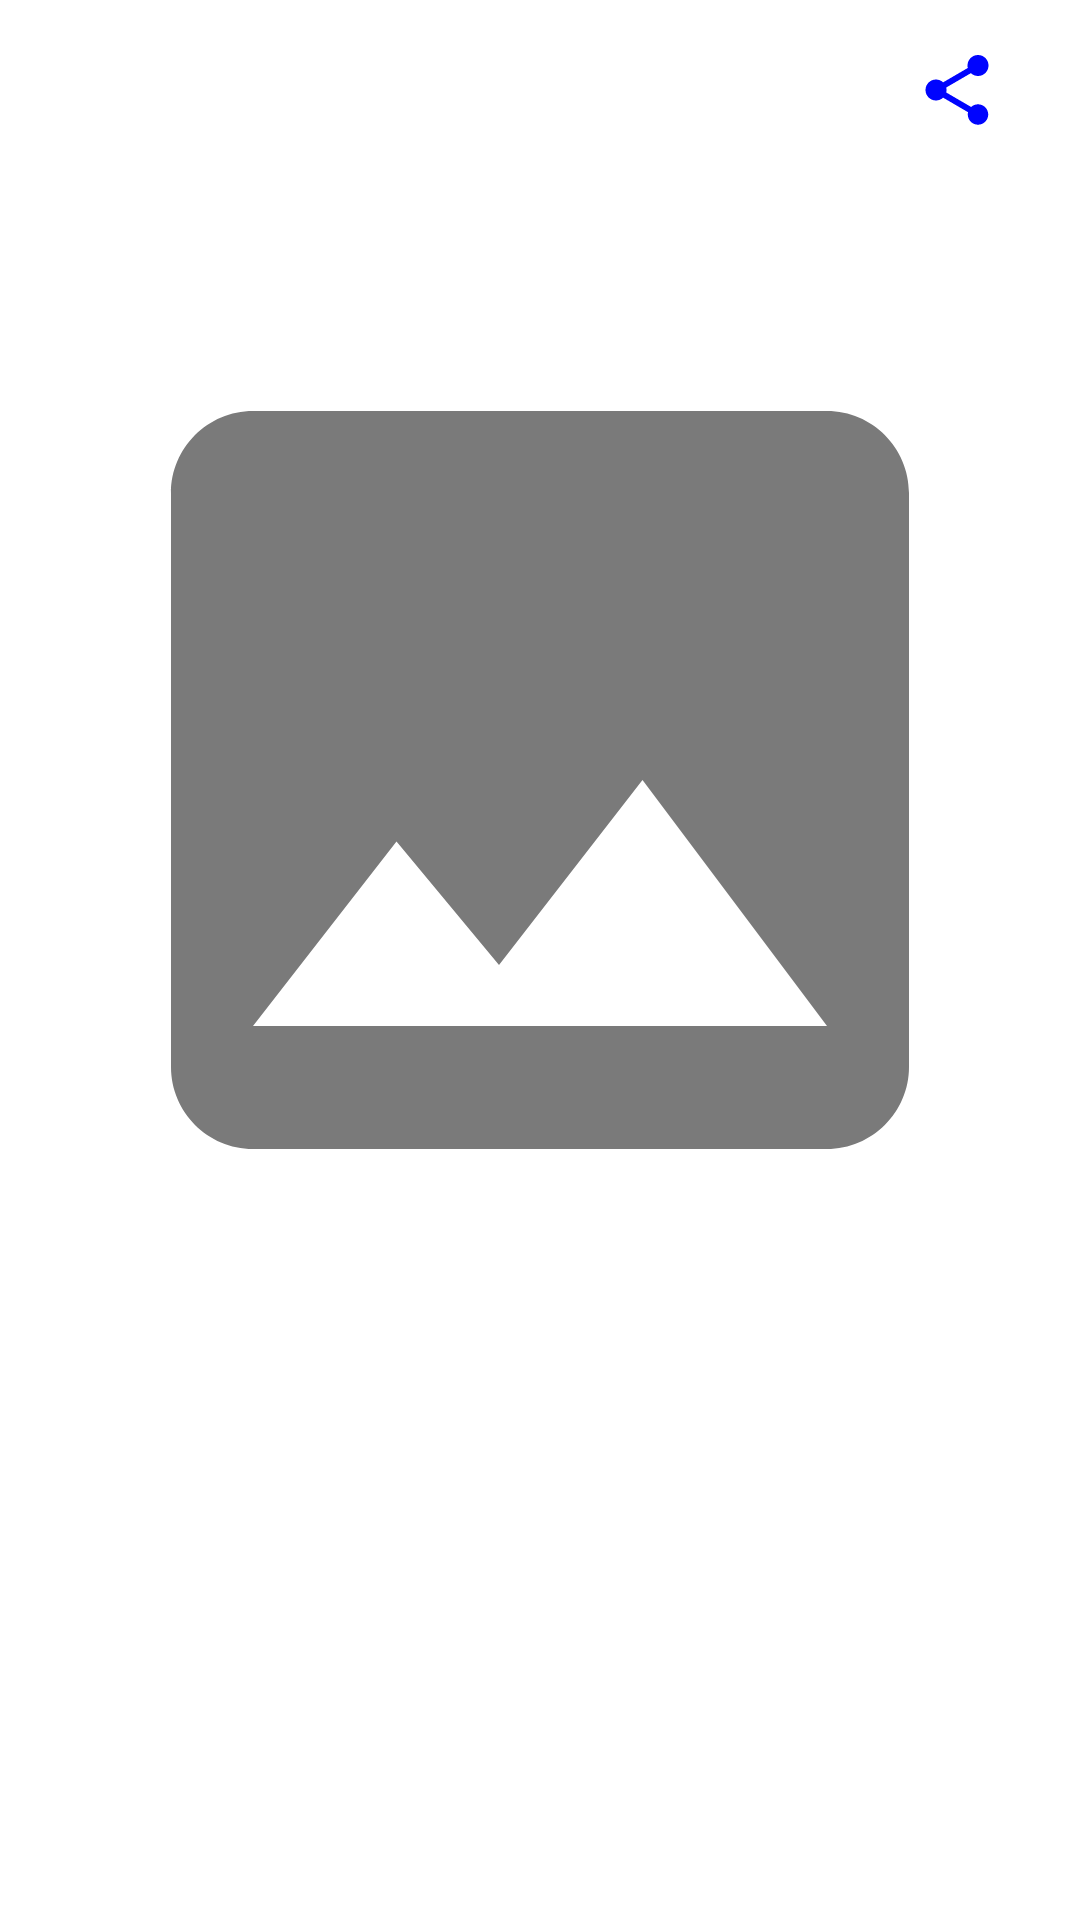

Screen size 1080px×1920px. Icon name, then its center in pixels as [x,y]:
share: [957,90]
